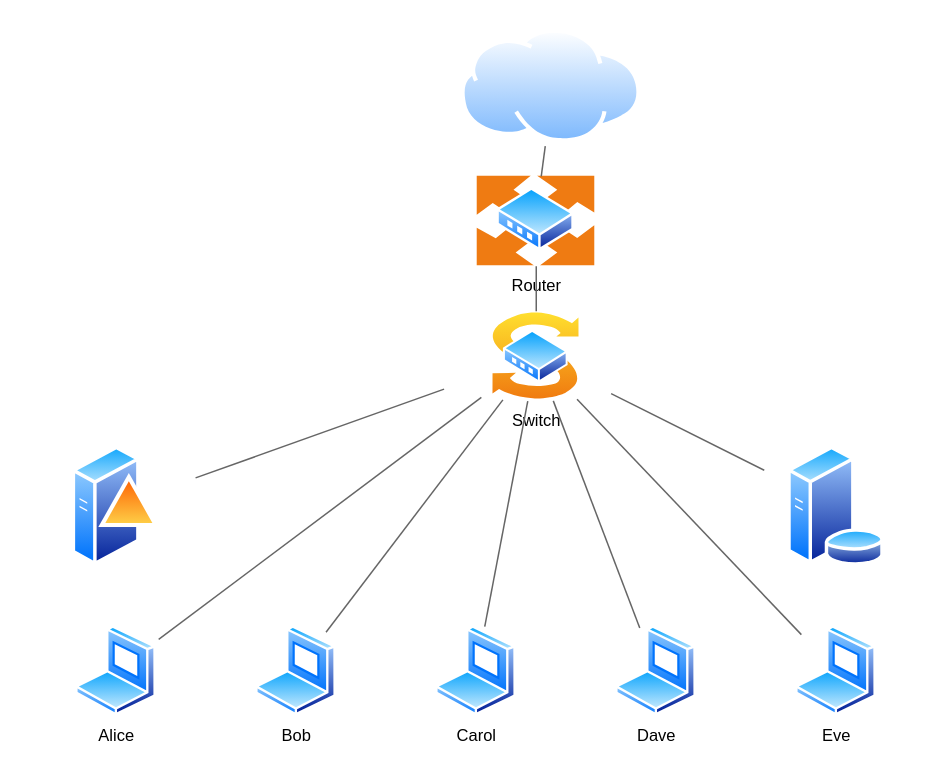
This 951x771 diagram has some shape labels left out. Here are the shapes that lost their labels. From the top down, the centre of each, then its label:
At point 550,86: "Internet".
At point 116,506: "Domain Controller".
At point 836,506: "File Server".
